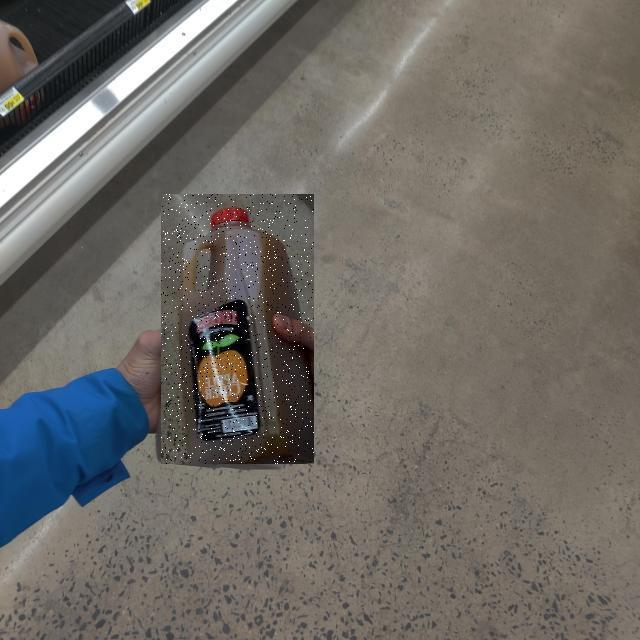Juice: (161, 194, 314, 464)
